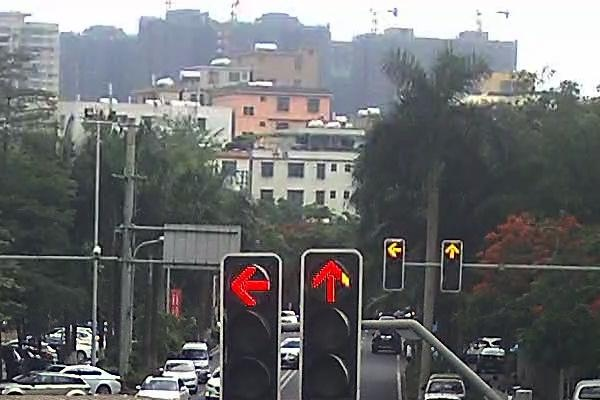redleft: (223, 254, 281, 309), (384, 239, 404, 260)
redstraight: (302, 251, 359, 307), (442, 240, 462, 261)
